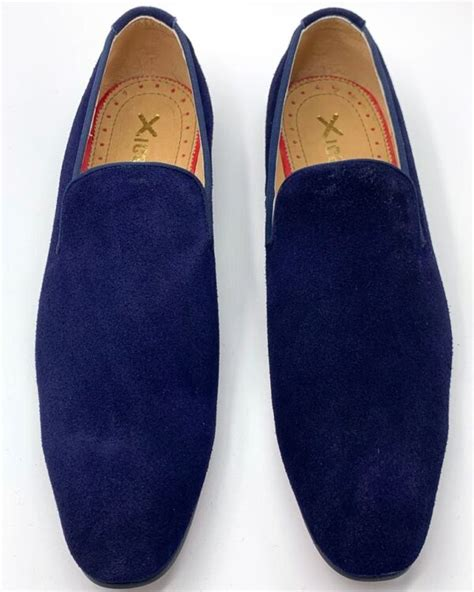gamuza: (37, 7, 453, 588)
